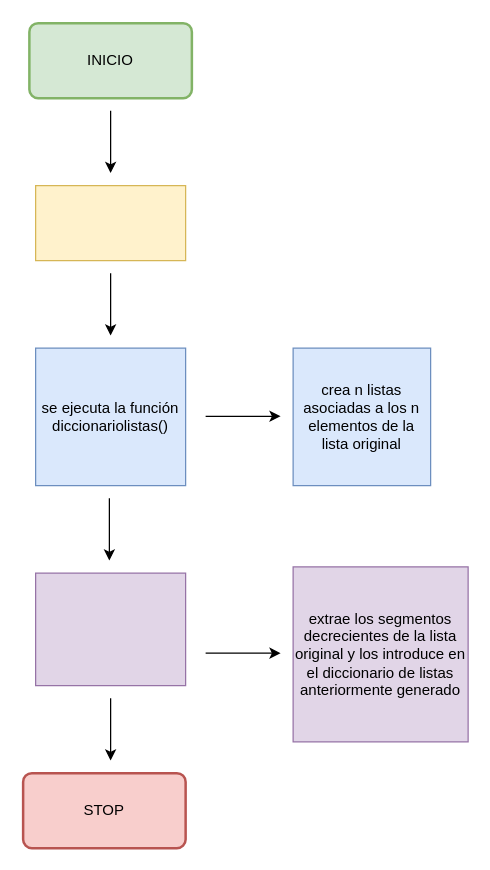
Image size: 490x870. Some labels were removed from this diagram. Each missing label, with the centre of its shape:
se ejecuta la función generarlista() empleada en el primer ejercicio: the point at 110,222
se ejecuta la función generarsegmento(): the point at 110,629
